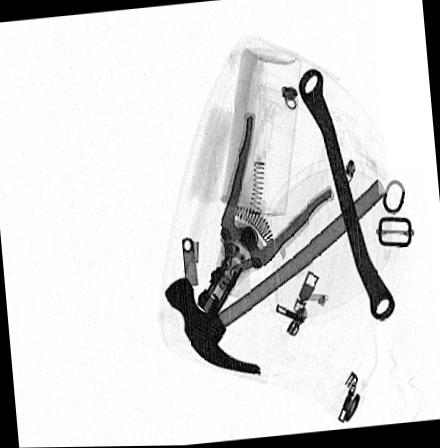Hammer: (163, 178, 386, 374)
Pliers: (196, 111, 335, 318)
Wrench: (297, 71, 395, 323)
